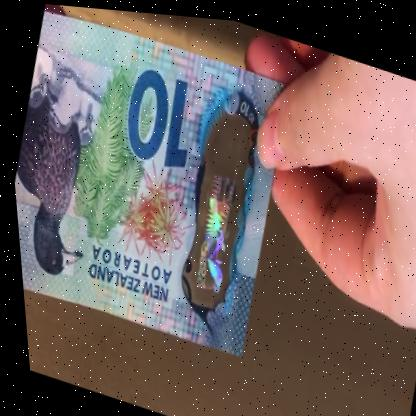10F: (172, 120, 259, 303)
